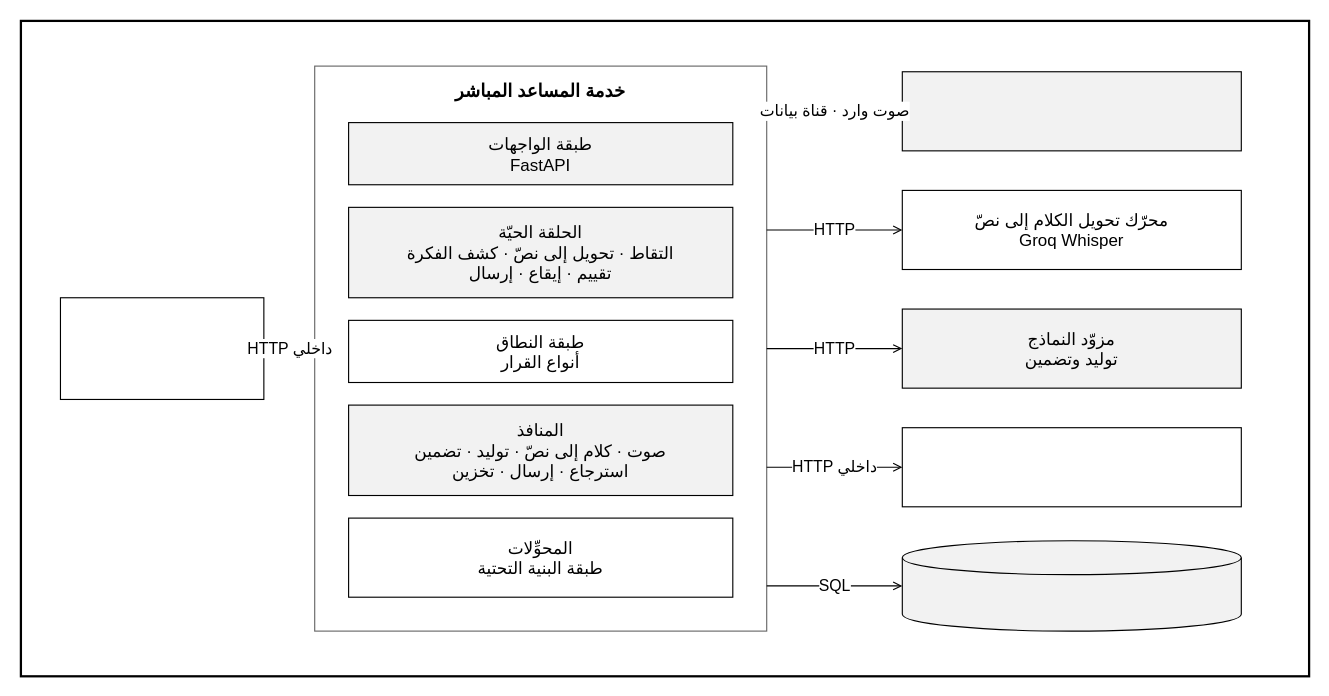
Image size: 1329x696. Some labels were removed from this diagram. Each missing label, with the centre of its shape:
"خادم البثّ LiveKit" belongs at pixel 1071 111.
"خدمة الاسترجاع استرجاع المقاطع المرجعية" belongs at pixel 1071 467.
"خدمة الفصول الدراسية بدء الجلسة وإنهاؤها" belongs at pixel 161 348.
"قاعدة بيانات الخدمة PostgreSQL" belongs at pixel 1071 585.
